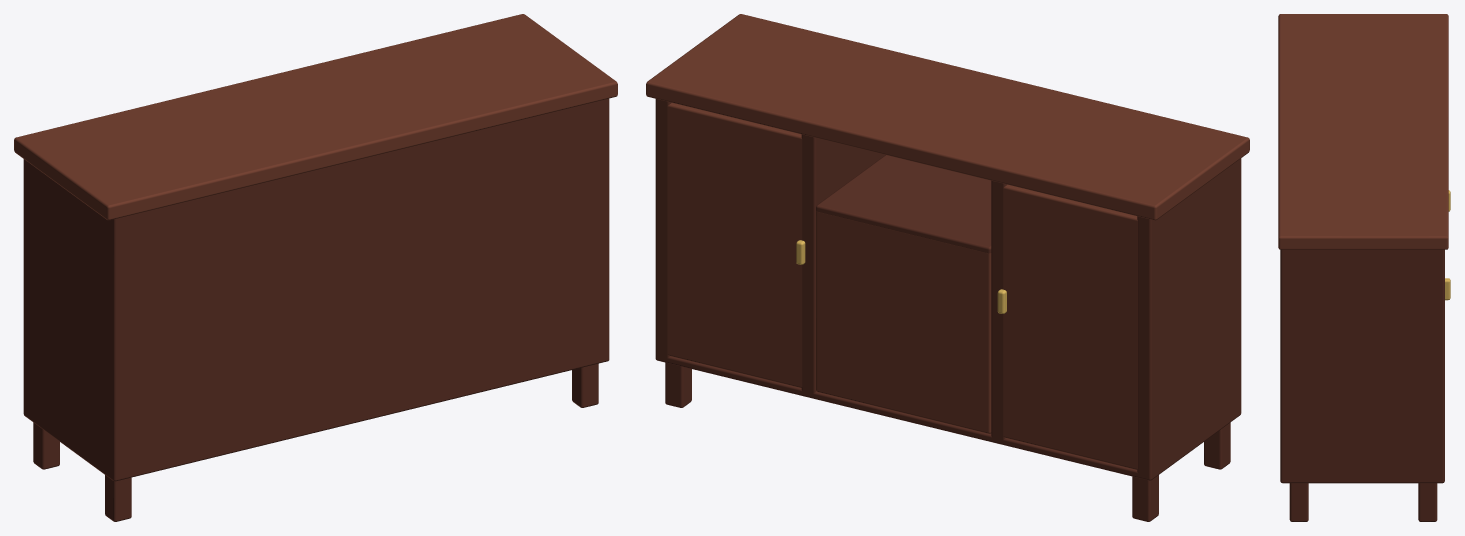
Rendered from SM_PRP_Aparador.fbx.
3 renders of one model, left to right at view 1: azimuth 30°, elevation 25°; view 2: azimuth 150°, elevation 25°; view 3: azimuth 270°, elevation 25°, orthographic. The views are drawn at different scales.
Visible parts, largest first — view 1: SM_PRP_Aparador; view 2: SM_PRP_Aparador; view 3: SM_PRP_Aparador.
Part boxes in pixels (bbox=[...]): SM_PRP_Aparador: bbox=[14, 14, 617, 521]; SM_PRP_Aparador: bbox=[646, 14, 1249, 521]; SM_PRP_Aparador: bbox=[1278, 14, 1450, 521].
Size of the model in its own units: 1.4 by 0.85 by 0.455.
